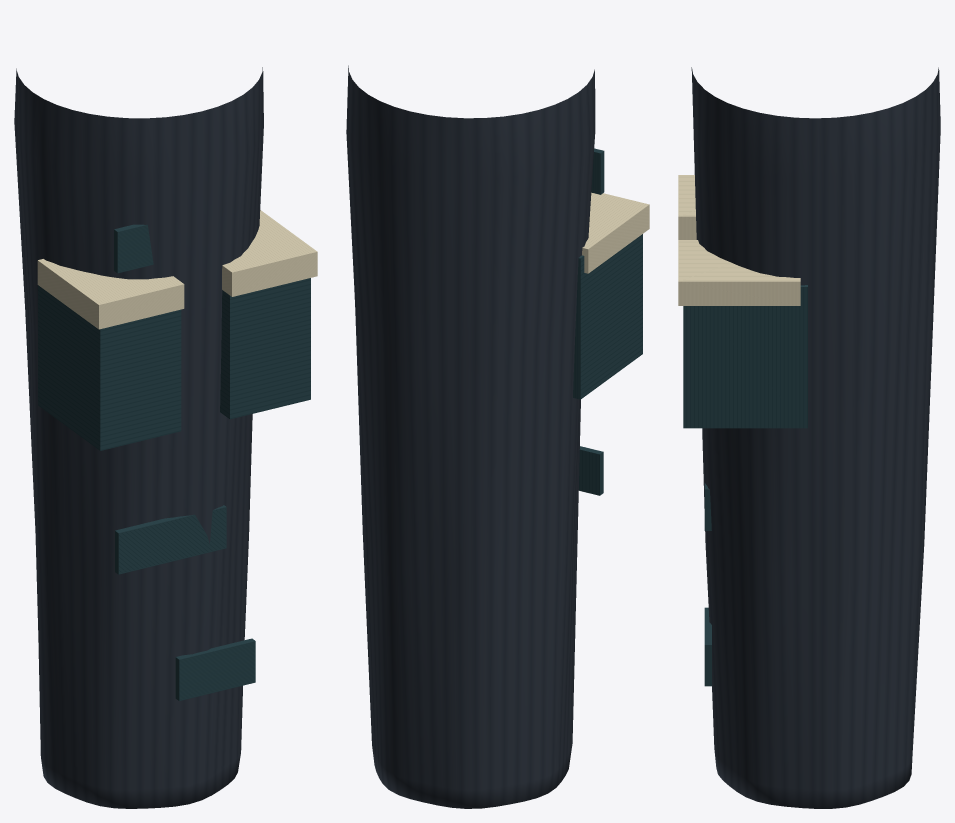
The model's file is reference_camo_pants.gltf.
3 views of the same model, side by side, from view 1: azimuth 30°, elevation 25°; view 2: azimuth 150°, elevation 25°; view 3: azimuth 270°, elevation 25° (orthographic).
Parts seen in each view (by area): view 1: LegL, LegR; view 2: LegL; view 3: LegL, LegR.
Boxes of the visible parts, x1,y1,x2,y2 form: LegL: (14, 67, 263, 808); LegR: (220, 210, 317, 419); LegL: (346, 65, 649, 808); LegL: (678, 67, 940, 808); LegR: (678, 240, 807, 428).
Bounding box in the file's own units: 0.243 × 0.749 × 0.2527.
3 materials, 3 textured.
